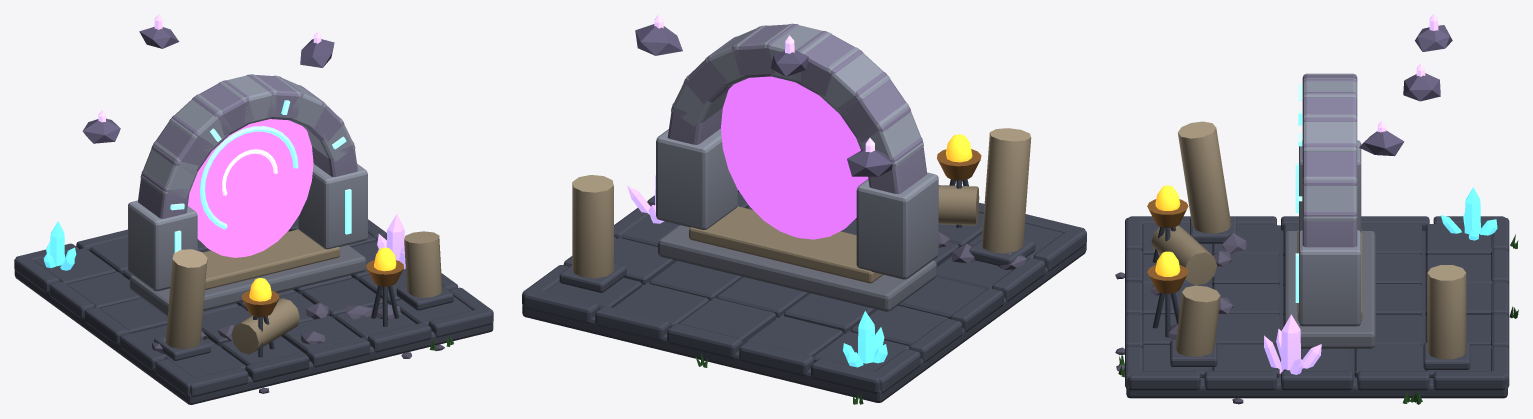
Rendered from ancient_portal.glb.
3 views of the same model, side by side, from view 1: azimuth 30°, elevation 25°; view 2: azimuth 150°, elevation 25°; view 3: azimuth 270°, elevation 25° (orthographic). The views are drawn at different scales.
Visible parts, largest first — view 1: t0_stone_dark, t0_stone, vortex_t0_spinZ110_brew_violet, t0_stone_warm, t0_rock_light, t2_bronze, vortex_t0_spinZ110_rune, t1_crystal, t0_rune, t2_iron, t3_crystal_violet, float1_t0_bob12_rock (+5 smaller); view 2: t0_stone_dark, t0_stone, vortex_t0_spinZ110_brew_violet, t0_stone_warm, t0_rock_light, t1_crystal, float1_t0_bob12_rock, float0_t0_bob12_rock, t2_bronze, float2_t0_bob12_rock, flame5_t2_bob2_flame; view 3: t0_stone_dark, t0_stone, t0_stone_warm, t0_rock_light, t3_crystal_violet, t2_bronze, t1_crystal, float0_t0_bob12_rock, t2_iron, float1_t0_bob12_rock, float2_t0_bob12_rock, t0_rune (+3 smaller).
Part boxes in pixels (left/top/right/bottom): t0_stone_dark: left=14, top=217, right=493, bottom=404; t0_stone: left=128, top=74, right=367, bottom=316; vortex_t0_spinZ110_brew_violet: left=188, top=119, right=313, bottom=257; t0_stone_warm: left=165, top=229, right=442, bottom=354; t0_rock_light: left=138, top=74, right=444, bottom=393; t2_bronze: left=241, top=260, right=403, bottom=316; vortex_t0_spinZ110_rune: left=200, top=126, right=298, bottom=229; t1_crystal: left=43, top=221, right=76, bottom=270; t0_rune: left=170, top=100, right=351, bottom=252; t2_iron: left=253, top=285, right=398, bottom=357; t3_crystal_violet: left=377, top=214, right=419, bottom=269; float1_t0_bob12_rock: left=300, top=39, right=334, bottom=67; t0_stone_dark: left=522, top=190, right=1086, bottom=402; t0_stone: left=656, top=23, right=938, bottom=311; vortex_t0_spinZ110_brew_violet: left=721, top=76, right=868, bottom=239; t0_stone_warm: left=572, top=128, right=1031, bottom=283; t0_rock_light: left=667, top=24, right=1026, bottom=269; t1_crystal: left=843, top=311, right=887, bottom=367; float1_t0_bob12_rock: left=635, top=24, right=682, bottom=55; float0_t0_bob12_rock: left=847, top=149, right=892, bottom=176; t2_bronze: left=937, top=149, right=981, bottom=180; float2_t0_bob12_rock: left=771, top=50, right=808, bottom=76; flame5_t2_bob2_flame: left=946, top=134, right=972, bottom=162; t0_stone_dark: left=1125, top=216, right=1509, bottom=398; t0_stone: left=1284, top=73, right=1375, bottom=348; t0_stone_warm: left=1151, top=121, right=1466, bottom=359; t0_rock_light: left=1115, top=74, right=1357, bottom=404; t3_crystal_violet: left=1264, top=314, right=1321, bottom=374; t2_bronze: left=1147, top=199, right=1188, bottom=293; t1_crystal: left=1440, top=187, right=1497, bottom=240; float0_t0_bob12_rock: left=1403, top=73, right=1440, bottom=101; t2_iron: left=1152, top=227, right=1179, bottom=337; float1_t0_bob12_rock: left=1359, top=130, right=1404, bottom=156; float2_t0_bob12_rock: left=1415, top=25, right=1452, bottom=51; t0_rune: left=1295, top=84, right=1302, bottom=302.
Size of the model in its own units: 3.04 by 2.42 by 3.11.
